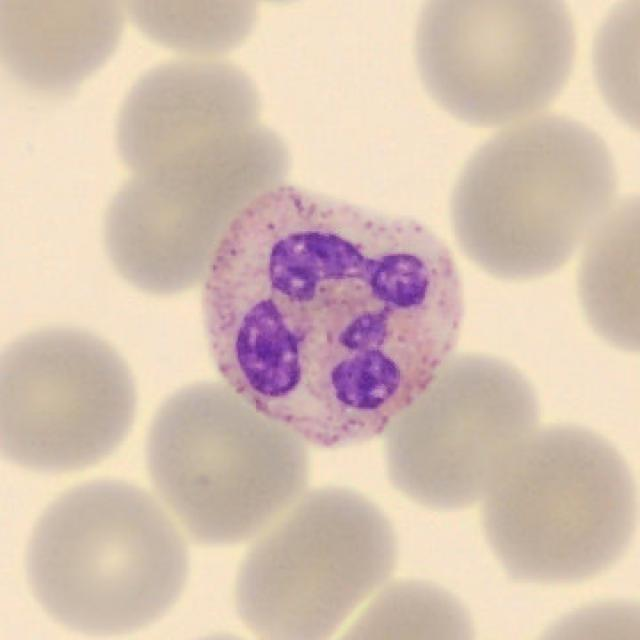Neutrofilo segmentado: (203, 187, 466, 450)
